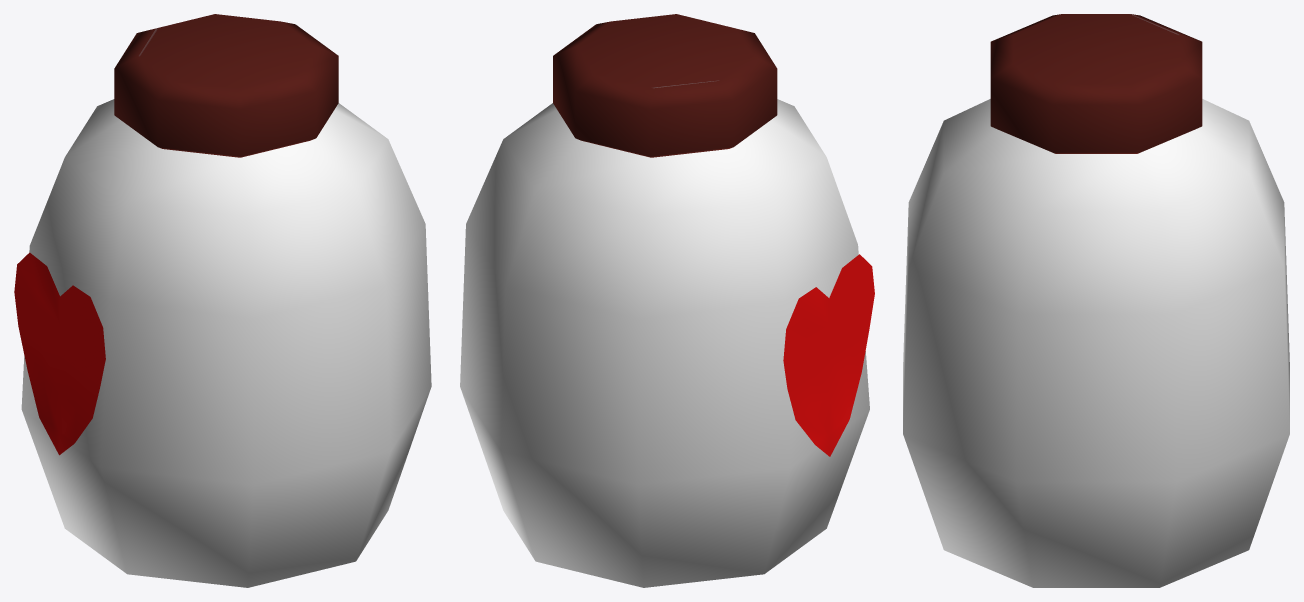
Rendered from Pills.fbx.
3 renders of one model, left to right at view 1: azimuth 30°, elevation 25°; view 2: azimuth 150°, elevation 25°; view 3: azimuth 270°, elevation 25°, orthographic.
Parts seen in each view (by area): view 1: Pills; view 2: Pills; view 3: Pills.
Part boxes in pixels (bbox=[...]): Pills: bbox=[14, 14, 431, 587]; Pills: bbox=[460, 14, 874, 587]; Pills: bbox=[903, 14, 1289, 587].
Bounding box in the file's own units: 24.65 × 33.02 × 24.41.
Materials: 1 (1 with a texture image).
